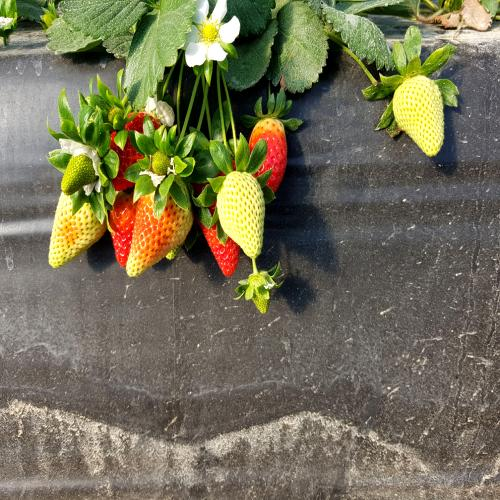unripe: (204, 169, 273, 268), (385, 68, 452, 166)
